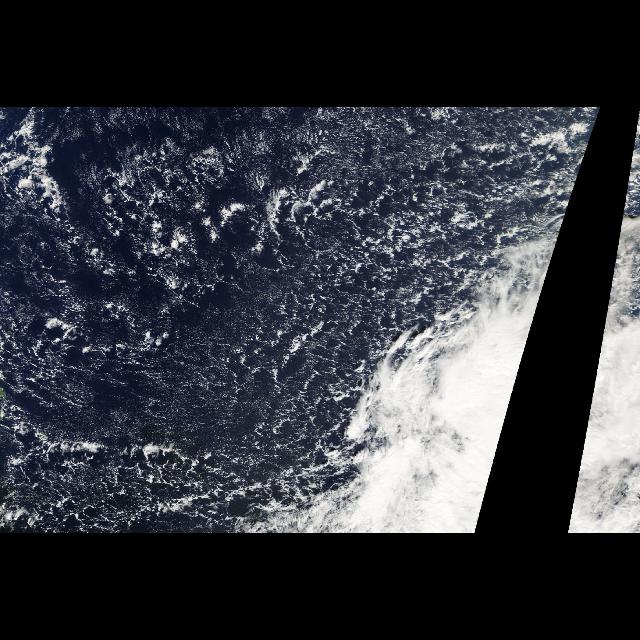Gravel: (3, 110, 541, 532)
Sugar: (9, 116, 408, 522)
